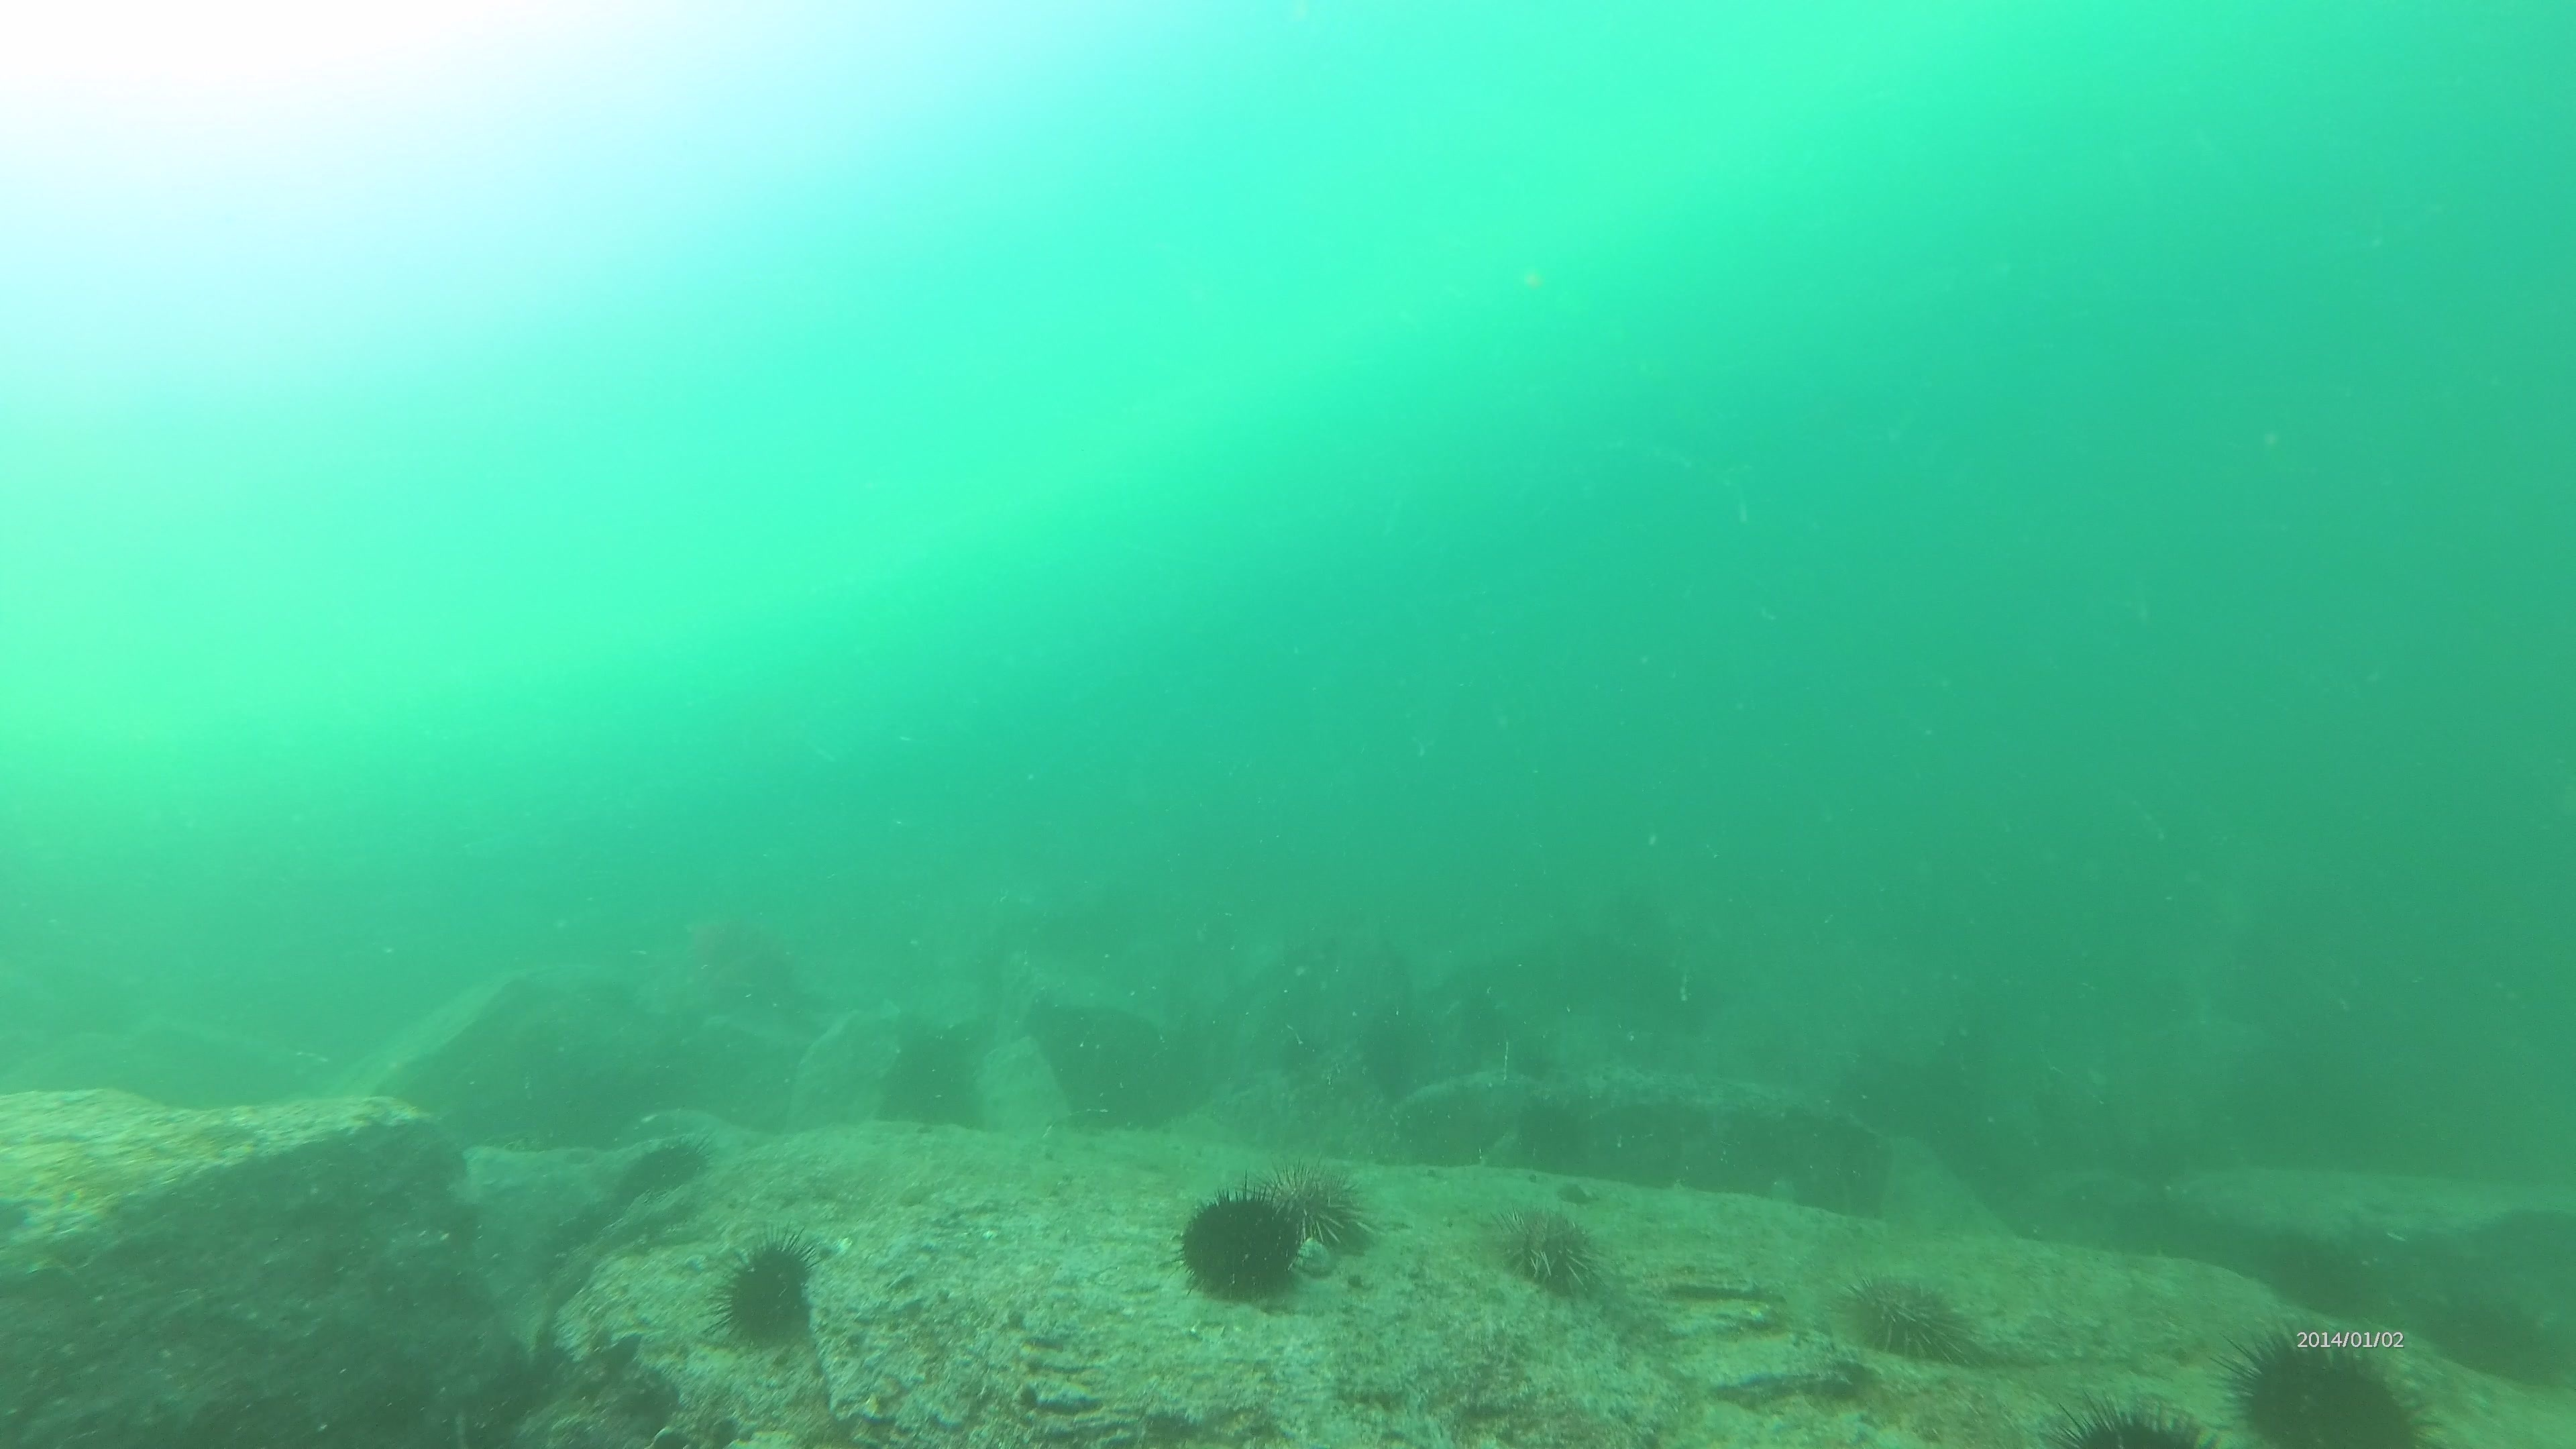echinus: (2217, 1320, 2434, 1445), (1169, 1178, 1318, 1311), (1829, 1265, 1983, 1371), (1235, 1159, 1380, 1267), (706, 1231, 826, 1357), (1481, 1198, 1614, 1306), (2058, 1384, 2217, 1449), (612, 1129, 717, 1208)
